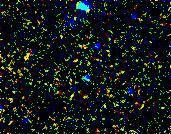star: (12, 40, 42, 70)
